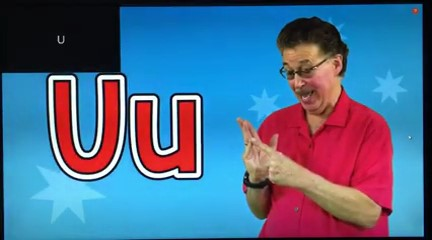U: (232, 112, 309, 201)
